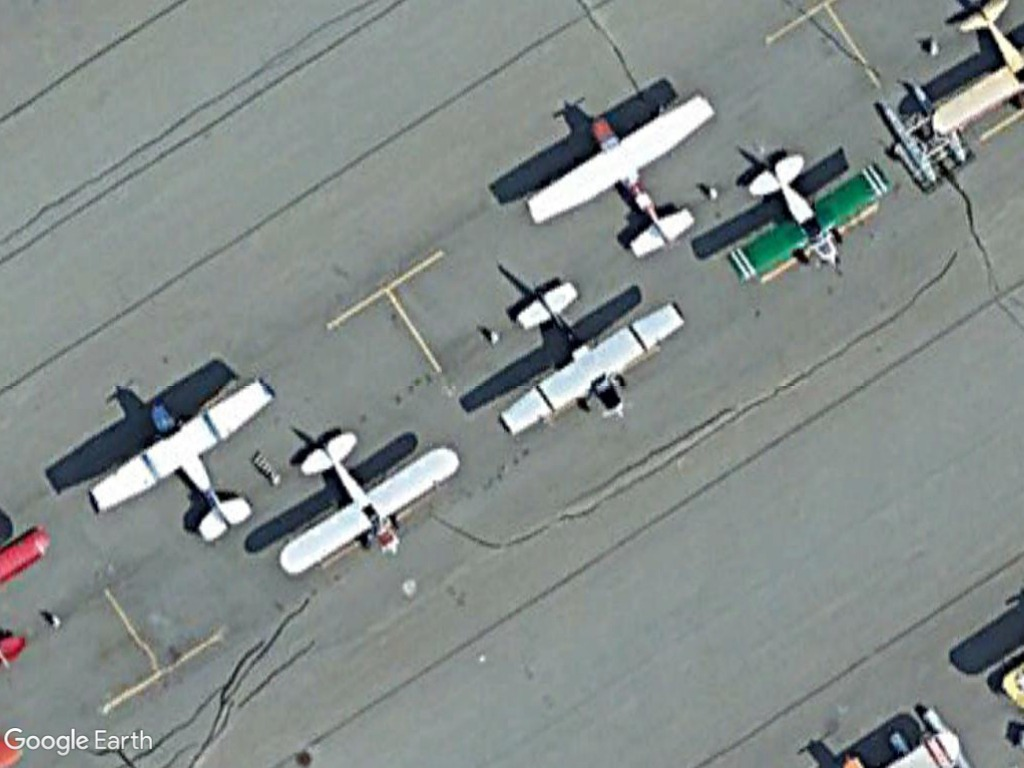trainer: (81, 373, 283, 547), (519, 88, 722, 259), (268, 423, 465, 588), (490, 276, 684, 442), (725, 148, 893, 290)
